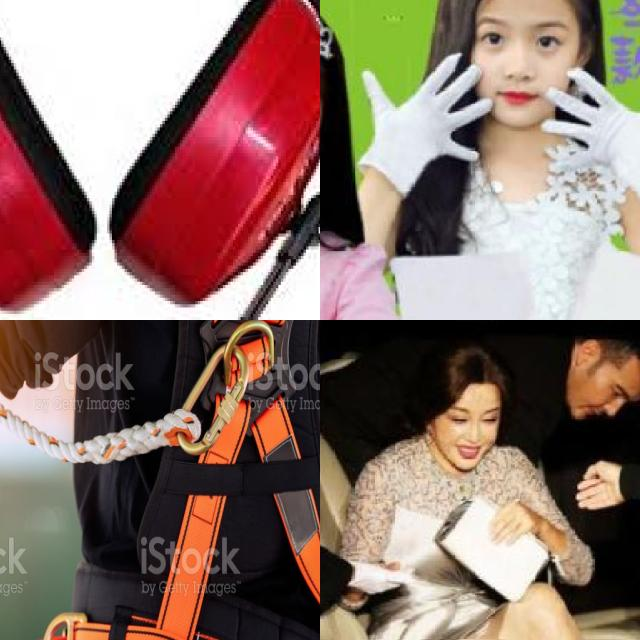Ear-protection: (0, 0, 320, 320)
Harness: (39, 320, 320, 640)
No_Glasses: (477, 13, 572, 63)
face_nomask: (463, 0, 594, 120), (558, 356, 640, 427), (442, 390, 496, 470)
hand_glove: (356, 44, 497, 178), (541, 62, 640, 182), (345, 559, 414, 595)
hand_noglove: (574, 456, 625, 511), (489, 498, 537, 546)
head_nohelmet: (440, 352, 510, 406), (591, 320, 640, 384)
person: (381, 0, 640, 320), (349, 352, 613, 640), (320, 0, 400, 320)
